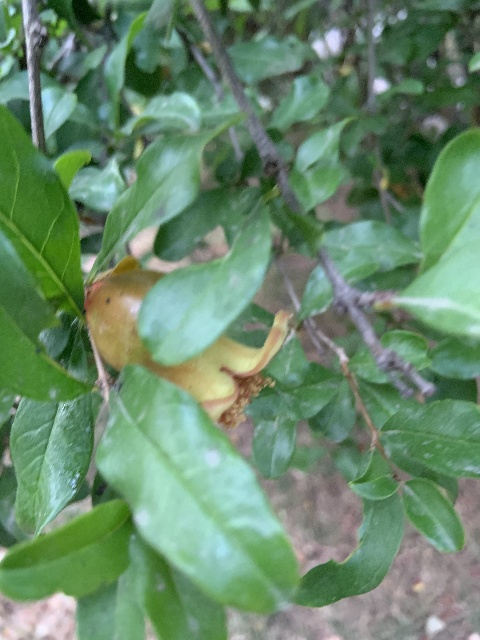early-fruit: (86, 264, 291, 434)
